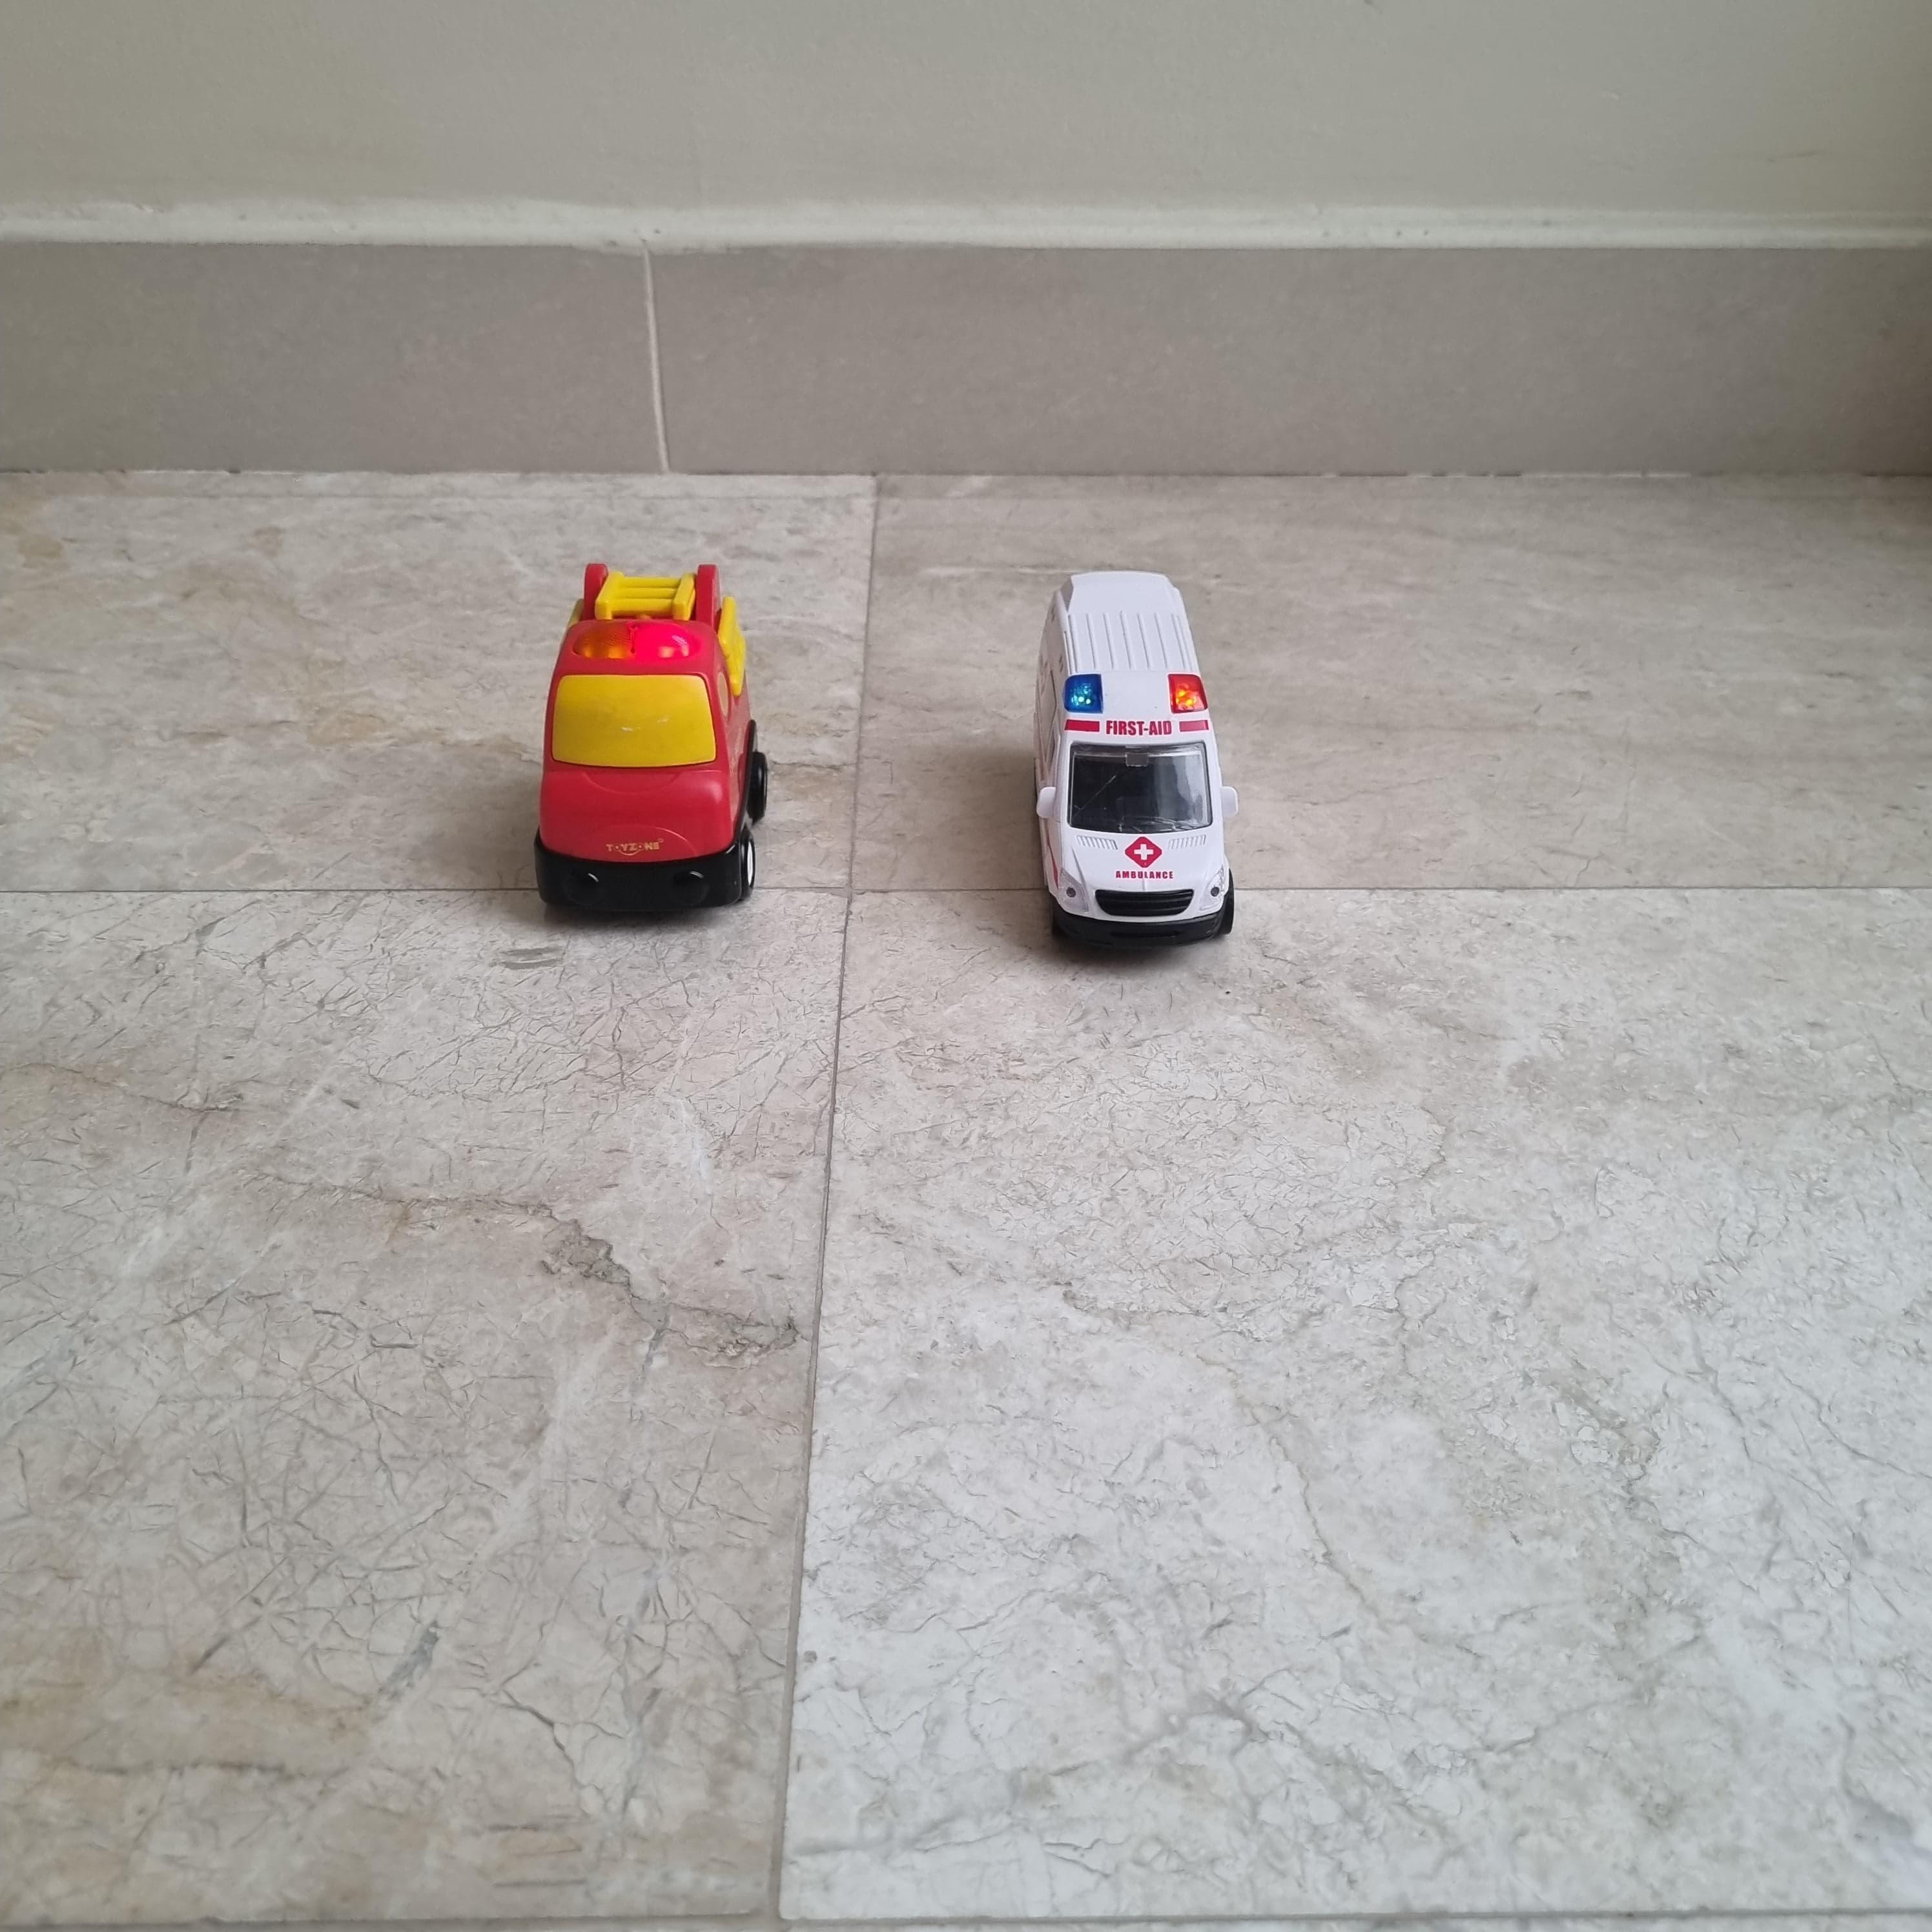ambulance_on: (1037, 573, 1238, 948)
firetruck_on: (533, 559, 766, 920)
